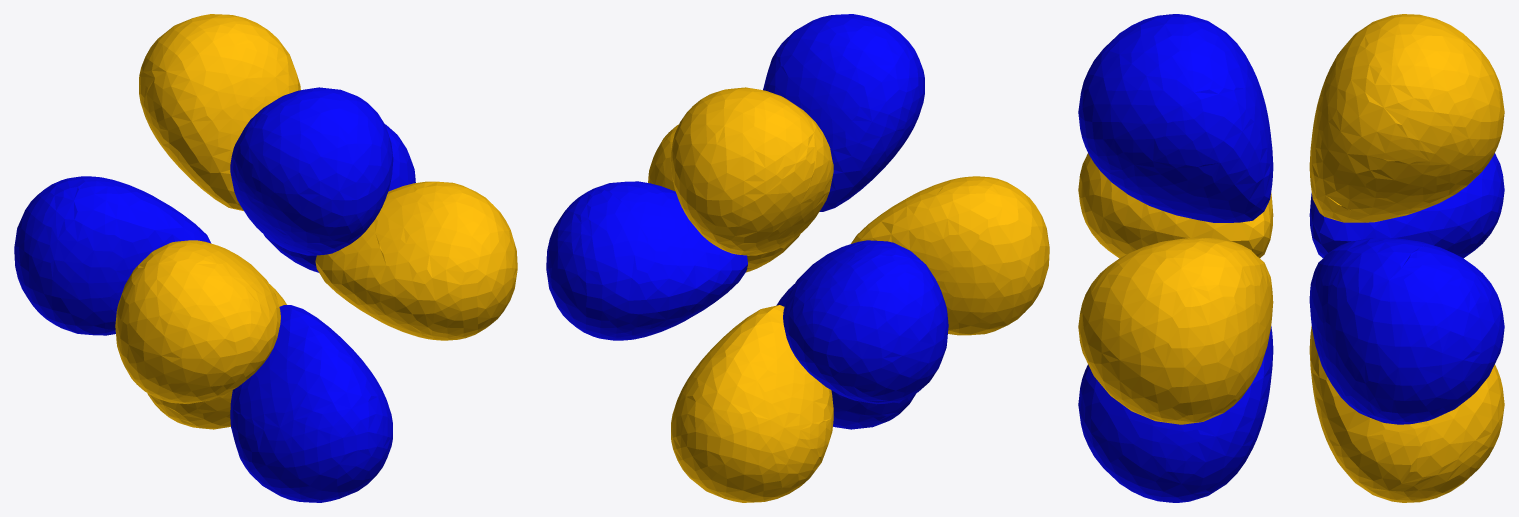
The picture shows the model from 3 angles, left to right: view 1: azimuth 30°, elevation 25°; view 2: azimuth 150°, elevation 25°; view 3: azimuth 270°, elevation 25°; orthographic projection. The views are drawn at different scales.
Size of the model in its own units: 22.58 by 22.58 by 18.63.
